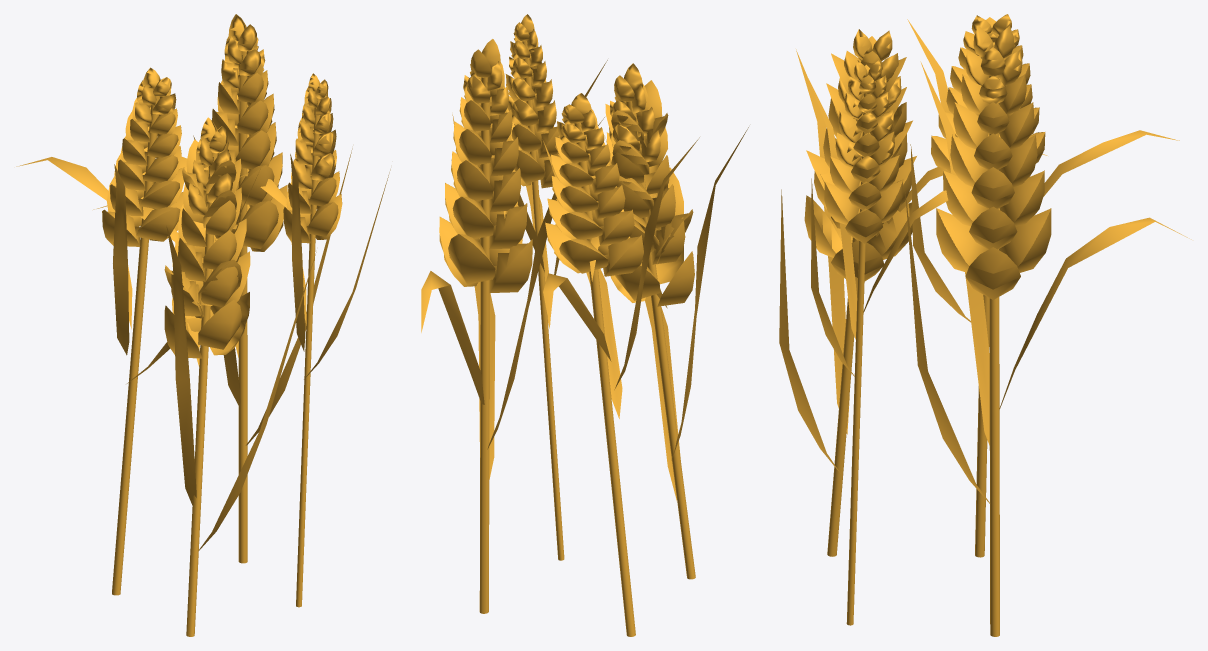
Rendered from Basak.fbx.
The picture shows the model from 3 angles, left to right: view 1: azimuth 30°, elevation 25°; view 2: azimuth 150°, elevation 25°; view 3: azimuth 270°, elevation 25°; orthographic projection. The views are drawn at different scales.
Parts seen in each view (by area): view 1: Basak; view 2: Basak; view 3: Basak.
Part boxes in pixels (x1,y1,x2,y2): Basak: (16,14,390,636); Basak: (421,14,748,636); Basak: (779,14,1191,636).
Size of the model in its own units: 42.46 by 92.24 by 56.89.
